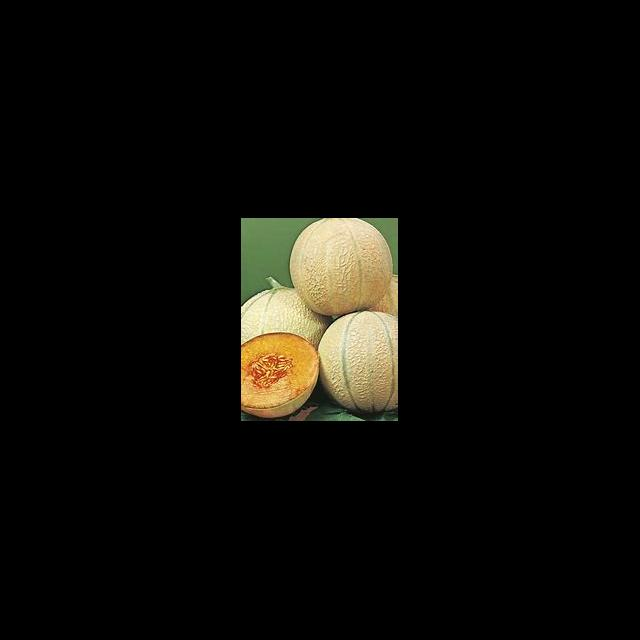Hami Melon: (290, 219, 393, 314), (319, 311, 398, 414), (242, 332, 319, 418)
